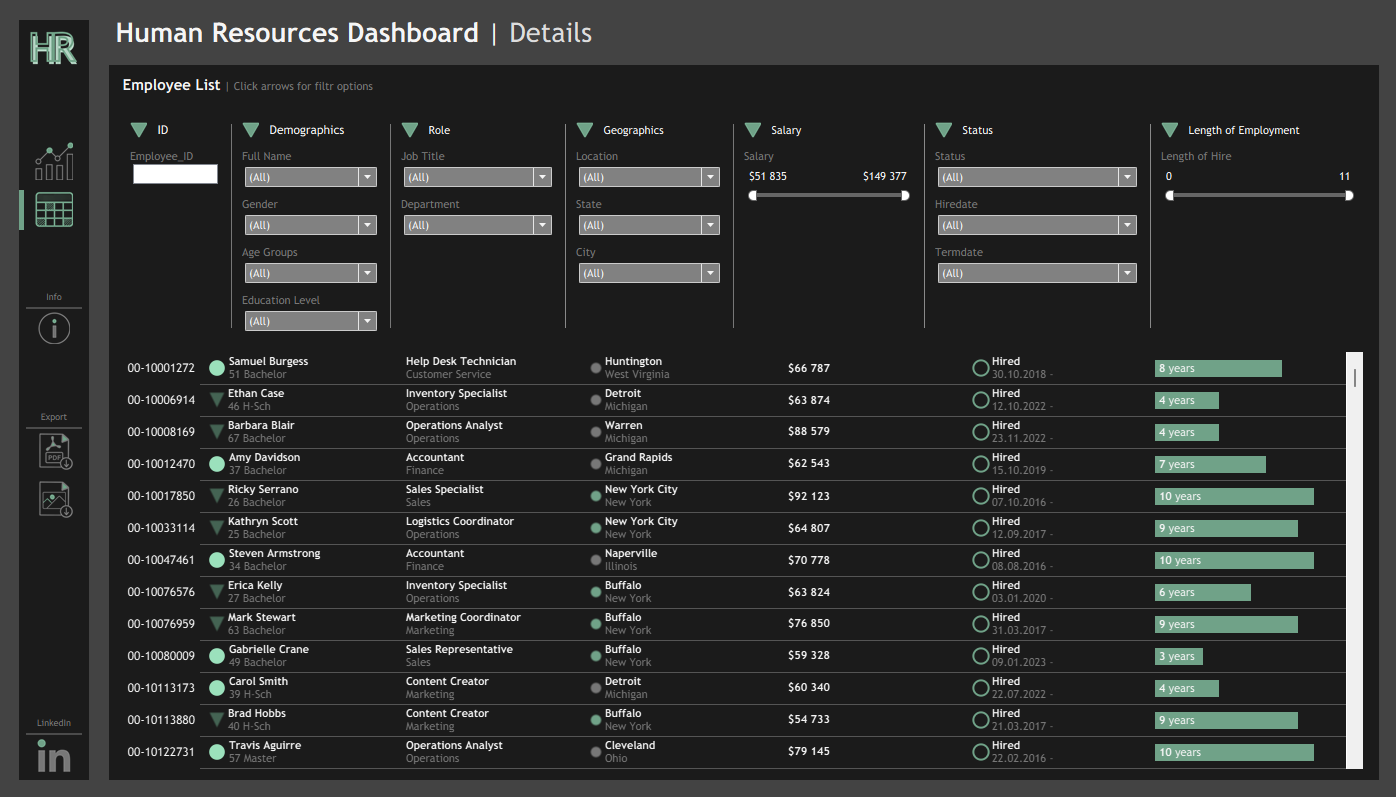

This screenshot's page, from the dashboard's own definition file:
{"tool":"tableau","page":{"name":"HR | Details","canvas":[1400,800],"ordinal":0},"visuals":[{"type":"blank","box":[90,0,1310,254]},{"type":"text","box":[110,0,691,65]},{"type":"blank","box":[801,0,579,65]},{"type":"image","param":"Image/hr_icon_fit.png","box":[20,20,70,55]},{"type":"text","box":[117,72,1256,32]},{"type":"blank","box":[20,75,70,60]},{"type":"dashboard-object","box":[127,114,25,32]},{"type":"text","box":[152,114,74,32]},{"type":"blank","box":[226,114,13,224]},{"type":"dashboard-object","box":[239,114,25,32]},{"type":"text","box":[264,114,121,32]},{"type":"blank","box":[385,114,13,224]},{"type":"dashboard-object","box":[398,114,25,32]},{"type":"text","box":[423,114,137,32]},{"type":"blank","box":[560,114,13,224]},{"type":"dashboard-object","box":[573,114,25,32]},{"type":"text","box":[598,114,130,32]},{"type":"blank","box":[728,114,13,224]},{"type":"dashboard-object","box":[741,114,25,32]},{"type":"text","box":[765.9,114,153,32]},{"type":"blank","box":[918.9,114,13,224]},{"type":"dashboard-object","box":[931.9,114,25,32]},{"type":"text","box":[956.9,114,188.1,32]},{"type":"blank","box":[1145,114,13,224]},{"type":"dashboard-object","box":[1158,114,25,32]},{"type":"text","box":[1183,114,148,32]},{"type":"dashboard-object","box":[27,142,56,38]},{"type":"filter","title":"Detailed","param":"[federated.17m2xt106gd4l3123qbfe0hd5b1v].[none:Employee_ID:nk]","box":[127,146,99,45]},{"type":"filter","title":"Detailed","param":"[federated.17m2xt106gd4l3123qbfe0hd5b1v].[none:Calculation_0923920630960154:nk]","box":[239,146,146,48]},{"type":"filter","title":"Detailed","param":"[federated.17m2xt106gd4l3123qbfe0hd5b1v].[none:Job Title:nk]","box":[398,146,162,48]},{"type":"filter","title":"Detailed","param":"[federated.17m2xt106gd4l3123qbfe0hd5b1v].[none:Calculation_1591047537897479:nk]","box":[573,146,155,48]},{"type":"filter","title":"Detailed","param":"[federated.17m2xt106gd4l3123qbfe0hd5b1v].[sum:Salary:qk]","box":[741,146,178,65]},{"type":"filter","title":"Detailed","param":"[federated.17m2xt106gd4l3123qbfe0hd5b1v].[none:Calculation_1591048616607757:nk]","box":[931.9,146,213.1,48]},{"type":"filter","title":"Detailed","param":"[federated.17m2xt106gd4l3123qbfe0hd5b1v].[sum:Calculation_0923920637407260:qk]","box":[1158,146,205,65]},{"type":"blank","box":[27,180,56,10]},{"type":"blank","box":[20,190,5,40]},{"type":"dashboard-object","box":[27,190,56,38]},{"type":"filter","title":"Detailed","param":"[federated.17m2xt106gd4l3123qbfe0hd5b1v].[none:Gender:nk]","box":[239,194,146,48]},{"type":"filter","title":"Detailed","param":"[federated.17m2xt106gd4l3123qbfe0hd5b1v].[none:Department:nk]","box":[398,194,162,48]},{"type":"filter","title":"Detailed","param":"[federated.17m2xt106gd4l3123qbfe0hd5b1v].[none:State:nk]","box":[573,194,155,48]},{"type":"filter","title":"Detailed","param":"[federated.17m2xt106gd4l3123qbfe0hd5b1v].[yr:Hiredate:ok]","box":[931.9,194,213.1,48]},{"type":"blank","box":[27,228,56,60]},{"type":"filter","title":"Detailed","param":"[federated.17m2xt106gd4l3123qbfe0hd5b1v].[none:Calculation_1591047561072652:nk]","box":[239,242,146,48]},{"type":"filter","title":"Detailed","param":"[federated.17m2xt106gd4l3123qbfe0hd5b1v].[none:City:nk]","box":[573,242,155,48]},{"type":"filter","title":"Detailed","param":"[federated.17m2xt106gd4l3123qbfe0hd5b1v].[yr:Termdate:ok]","box":[931.9,242,213.1,48]},{"type":"text","box":[90,254,1310,261]},{"type":"text","box":[27,288,56,19]},{"type":"filter","title":"Detailed","param":"[federated.17m2xt106gd4l3123qbfe0hd5b1v].[none:Education Level:nk]","box":[239,290,146,48]},{"type":"blank","box":[27,307,56,2]},{"type":"dashboard-object","box":[27,309,56,38]},{"type":"blank","box":[27,347,56,60]},{"type":"worksheet","title":"Detailed","mark":"Shape","rows":["Employee_ID"],"cols":["Calculation_0923920630186009","Calculation_0923920630186009","Calculation_0923920630186009","Calculation_0923920630186009","Calculation_0923920630186009","Calculation_0923920637407260"],"box":[117,348,1256,425]},{"type":"text","box":[27,407,56,20]},{"type":"blank","box":[27,427,56,2]},{"type":"dashboard-object","box":[27,429,56,41]},{"type":"blank","box":[27,470,56,10]},{"type":"dashboard-object","box":[27,480,56,38]},{"type":"blank","box":[90,515,1310,285]},{"type":"blank","box":[27,518,56,196]},{"type":"text","box":[27,714,56,19]},{"type":"blank","box":[27,733,56,2]},{"type":"image","param":"Image/contact-linkedin-4-transparent.png","box":[27,735,56,38]}]}

Visuals, with their boxes on the page's 1400x800 design canvas (x1, y1, x2, y2). These are canvas units, not pixel positions in the 1396x797 screenshot, which may show the page scaled, cropped or inside an application window:
blank: {"left": 90, "top": 0, "right": 1400, "bottom": 254}
text: {"left": 110, "top": 0, "right": 801, "bottom": 65}
blank: {"left": 801, "top": 0, "right": 1380, "bottom": 65}
image: {"left": 20, "top": 20, "right": 90, "bottom": 75}
text: {"left": 117, "top": 72, "right": 1373, "bottom": 104}
blank: {"left": 20, "top": 75, "right": 90, "bottom": 135}
dashboard-object: {"left": 127, "top": 114, "right": 152, "bottom": 146}
text: {"left": 152, "top": 114, "right": 226, "bottom": 146}
blank: {"left": 226, "top": 114, "right": 239, "bottom": 338}
dashboard-object: {"left": 239, "top": 114, "right": 264, "bottom": 146}
text: {"left": 264, "top": 114, "right": 385, "bottom": 146}
blank: {"left": 385, "top": 114, "right": 398, "bottom": 338}
dashboard-object: {"left": 398, "top": 114, "right": 423, "bottom": 146}
text: {"left": 423, "top": 114, "right": 560, "bottom": 146}
blank: {"left": 560, "top": 114, "right": 573, "bottom": 338}
dashboard-object: {"left": 573, "top": 114, "right": 598, "bottom": 146}
text: {"left": 598, "top": 114, "right": 728, "bottom": 146}
blank: {"left": 728, "top": 114, "right": 741, "bottom": 338}
dashboard-object: {"left": 741, "top": 114, "right": 766, "bottom": 146}
text: {"left": 766, "top": 114, "right": 919, "bottom": 146}
blank: {"left": 919, "top": 114, "right": 932, "bottom": 338}
dashboard-object: {"left": 932, "top": 114, "right": 957, "bottom": 146}
text: {"left": 957, "top": 114, "right": 1145, "bottom": 146}
blank: {"left": 1145, "top": 114, "right": 1158, "bottom": 338}
dashboard-object: {"left": 1158, "top": 114, "right": 1183, "bottom": 146}
text: {"left": 1183, "top": 114, "right": 1331, "bottom": 146}
dashboard-object: {"left": 27, "top": 142, "right": 83, "bottom": 180}
"Detailed" filter: {"left": 127, "top": 146, "right": 226, "bottom": 191}
"Detailed" filter: {"left": 239, "top": 146, "right": 385, "bottom": 194}
"Detailed" filter: {"left": 398, "top": 146, "right": 560, "bottom": 194}
"Detailed" filter: {"left": 573, "top": 146, "right": 728, "bottom": 194}
"Detailed" filter: {"left": 741, "top": 146, "right": 919, "bottom": 211}
"Detailed" filter: {"left": 932, "top": 146, "right": 1145, "bottom": 194}
"Detailed" filter: {"left": 1158, "top": 146, "right": 1363, "bottom": 211}
blank: {"left": 27, "top": 180, "right": 83, "bottom": 190}
blank: {"left": 20, "top": 190, "right": 25, "bottom": 230}
dashboard-object: {"left": 27, "top": 190, "right": 83, "bottom": 228}
"Detailed" filter: {"left": 239, "top": 194, "right": 385, "bottom": 242}
"Detailed" filter: {"left": 398, "top": 194, "right": 560, "bottom": 242}
"Detailed" filter: {"left": 573, "top": 194, "right": 728, "bottom": 242}
"Detailed" filter: {"left": 932, "top": 194, "right": 1145, "bottom": 242}
blank: {"left": 27, "top": 228, "right": 83, "bottom": 288}
"Detailed" filter: {"left": 239, "top": 242, "right": 385, "bottom": 290}
"Detailed" filter: {"left": 573, "top": 242, "right": 728, "bottom": 290}
"Detailed" filter: {"left": 932, "top": 242, "right": 1145, "bottom": 290}
text: {"left": 90, "top": 254, "right": 1400, "bottom": 515}
text: {"left": 27, "top": 288, "right": 83, "bottom": 307}
"Detailed" filter: {"left": 239, "top": 290, "right": 385, "bottom": 338}
blank: {"left": 27, "top": 307, "right": 83, "bottom": 309}
dashboard-object: {"left": 27, "top": 309, "right": 83, "bottom": 347}
blank: {"left": 27, "top": 347, "right": 83, "bottom": 407}
"Detailed" worksheet (Shape marks): {"left": 117, "top": 348, "right": 1373, "bottom": 773}
text: {"left": 27, "top": 407, "right": 83, "bottom": 427}
blank: {"left": 27, "top": 427, "right": 83, "bottom": 429}
dashboard-object: {"left": 27, "top": 429, "right": 83, "bottom": 470}
blank: {"left": 27, "top": 470, "right": 83, "bottom": 480}
dashboard-object: {"left": 27, "top": 480, "right": 83, "bottom": 518}
blank: {"left": 90, "top": 515, "right": 1400, "bottom": 800}
blank: {"left": 27, "top": 518, "right": 83, "bottom": 714}
text: {"left": 27, "top": 714, "right": 83, "bottom": 733}
blank: {"left": 27, "top": 733, "right": 83, "bottom": 735}
image: {"left": 27, "top": 735, "right": 83, "bottom": 773}
